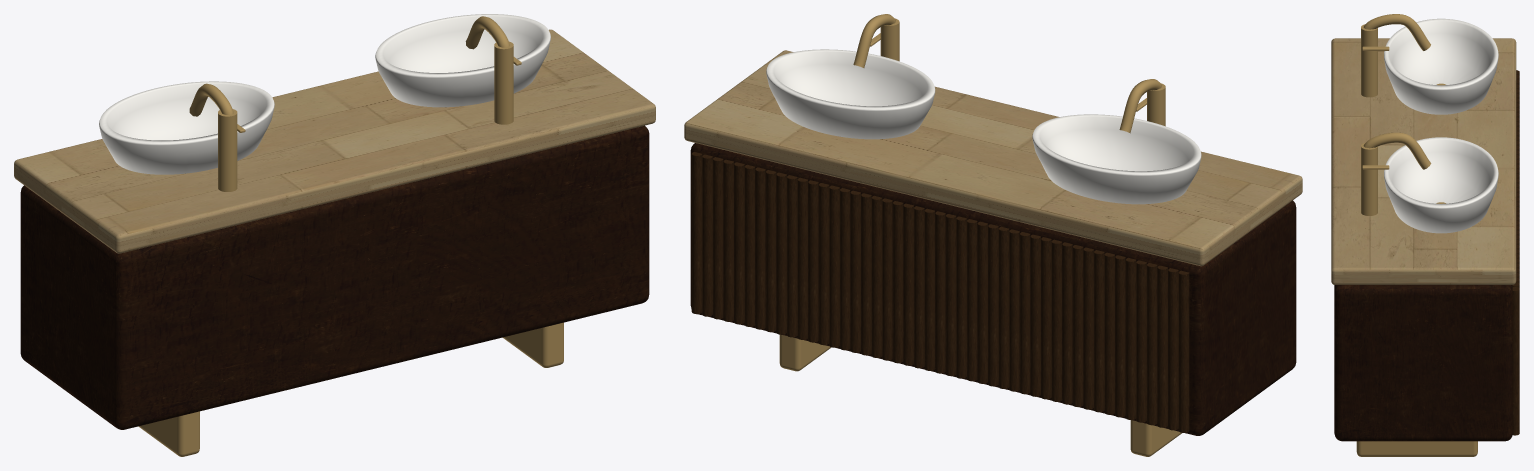
File: luxury-fluted-vanity.glb
The picture shows the model from 3 angles, left to right: view 1: azimuth 30°, elevation 25°; view 2: azimuth 150°, elevation 25°; view 3: azimuth 270°, elevation 25°; orthographic projection. The views are drawn at different scales.
Parts seen in each view (by area): view 1: walnut_0, stone_48, ceramic_49, bronze_50; view 2: oak_1, stone_48, walnut_0, ceramic_49, bronze_50; view 3: walnut_0, stone_48, ceramic_49, bronze_50, oak_1.
Boxes of the visible parts, x1,y1,x2,y2 form: walnut_0: (20,125,649,429); stone_48: (14,29,655,253); ceramic_49: (99,14,550,174); bronze_50: (138,16,563,456); oak_1: (691,152,1189,432); stone_48: (684,50,1302,266); walnut_0: (690,143,1296,435); ceramic_49: (766,49,1201,204); bronze_50: (779,14,1181,456); walnut_0: (1334,285,1512,441); stone_48: (1331,38,1516,284); ceramic_49: (1384,18,1498,233); bronze_50: (1356,14,1477,456); oak_1: (1512,70,1519,435).
Bounding box in the file's own units: 1.72 × 1.05 × 0.591.
Materials: 5 (3 with a texture image).
